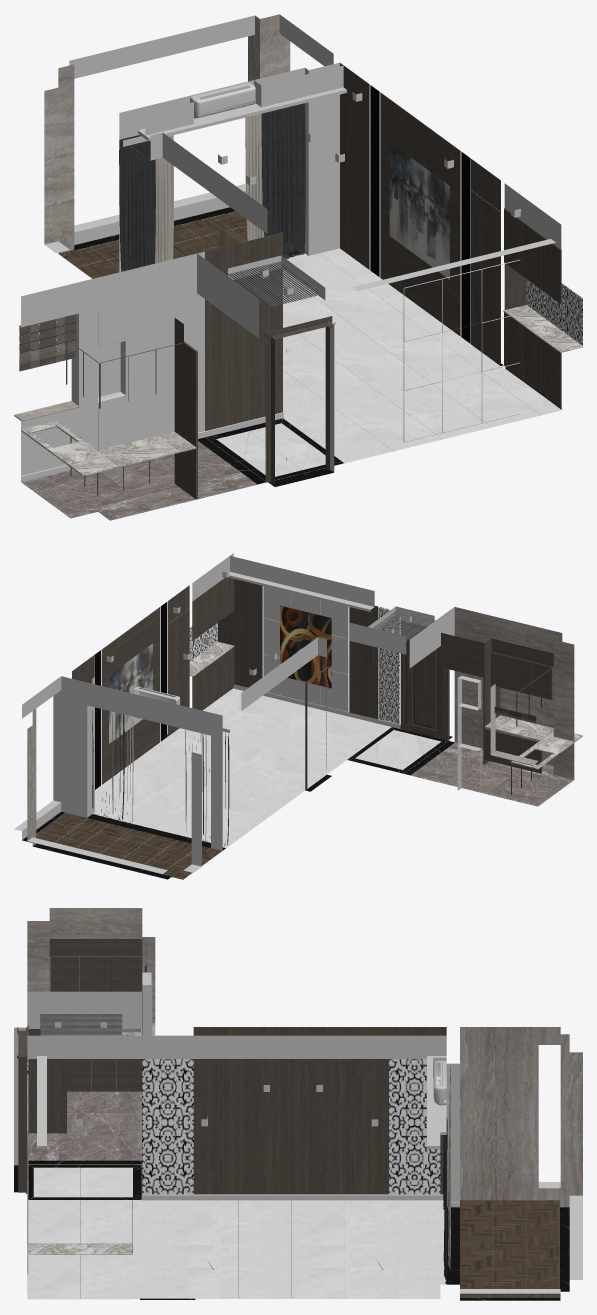
File: Wall.gltf
3 views of the same model, one above another, from view 1: azimuth 30°, elevation 25°; view 2: azimuth 150°, elevation 25°; view 3: azimuth 270°, elevation 25° (orthographic). The views are drawn at different scales.
Parts seen in each view (by area): view 1: Wall; view 2: Wall; view 3: Wall.
Boxes of the visible parts, box(x1,y1,x2,y2) form: Wall: box(14, 14, 582, 520); Wall: box(14, 553, 582, 879); Wall: box(14, 908, 582, 1300).
Bounding box in the file's own units: 8.14 × 2.89 × 8.6.
Materials: 20 (15 with a texture image).
